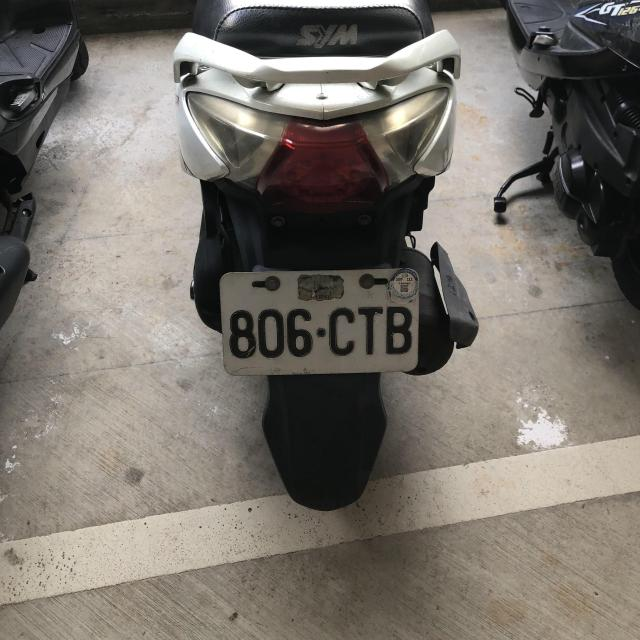W: (217, 263, 420, 377)
